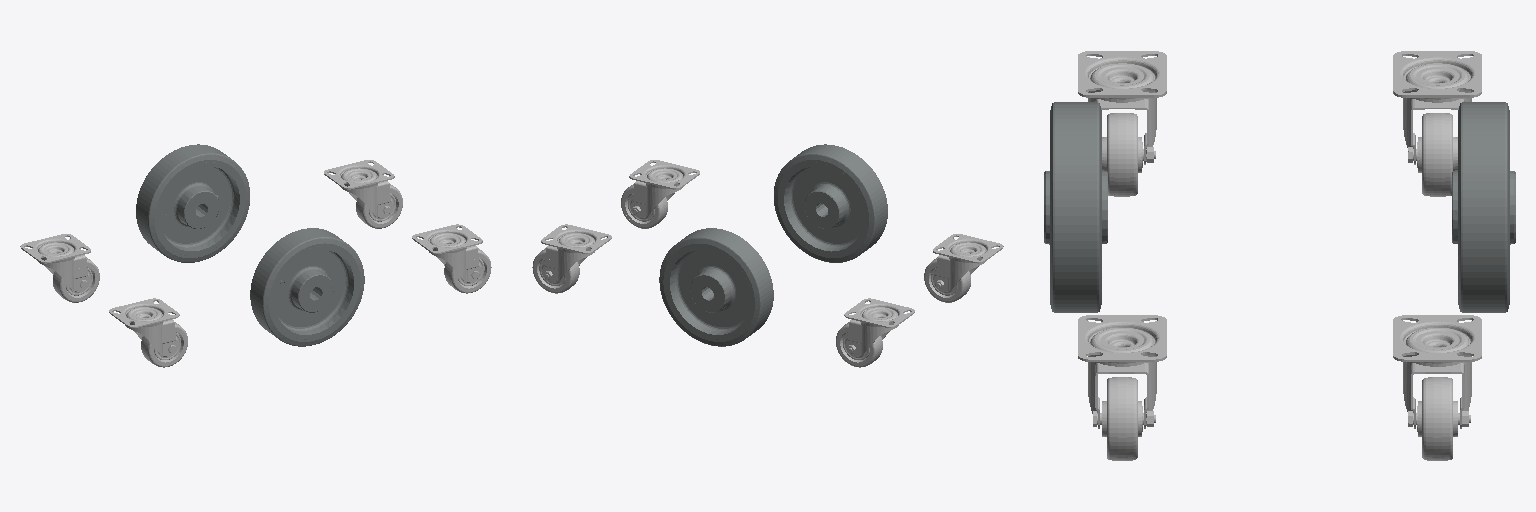
robot.urdf — amrmtt_robot:
<?xml version="1.0" ?>
<robot name="amrmtt_robot">

  <link name="base_link">
    <inertial>
      <origin 
        rpy="0 0 0" 
        xyz="0.034512 0.2433 -0.014732"/>
      <mass value="52.884"/>
      <inertia 
        ixx="0.31942" 
        ixy="0.00054994" 
        ixz="-0.0020306" 
        iyy="0.71823" 
        iyz="0.00095034" 
        izz="0.54119"/>
      </inertial>
    <visual>
       <origin rpy="1.5707 0 3.1414" xyz="0 0 0"/>
      
      <geometry>
        <mesh filename="package://amrmtt_robot/meshes/Chassis_link.STL"/>
      </geometry>
      <material name="">
        <color rgba="0.89804 0.91765 0.92941 1"/>
      </material>
    </visual>
    <collision>
      <origin rpy="0 0 0" xyz="0 0 0"/>
      <geometry>
        <mesh filename="package://amrmtt_robot/meshes/Chassis_link.STL"/>
      </geometry>
    </collision>
  </link>

  <link name="Left_Wheel_Link">
    <inertial>
      <origin rpy="0 0 0" xyz="-4.7744E-05 -1.1722E-06 -0.0039873"/>
      <mass value="7.4872"/>
      <inertia 
        ixx="0.023075" 
        ixy="-4.1552E-07" 
        ixz="-3.6593E-06" 
        iyy="0.023091" 
        iyz="-9.4815E-08" 
        izz="0.043271"/>
    </inertial>
    <visual>
      <origin rpy="0 0 0" xyz="0 0 0"/>
      <geometry>
        <mesh filename="package://amrmtt_robot/meshes/Left_Wheel_Link.STL"/>
      </geometry>
      <material name="">
        <color rgba="0.52941 0.54902 0.54902 1"/>
      </material>
    </visual>
    <collision>
      <origin rpy="0 0 0" xyz="0 0 0"/>
      <geometry>
        <mesh filename="package://amrmtt_robot/meshes/Left_Wheel_Link.STL"/>
      </geometry>
    </collision>
  </link>

  <joint name="Left_wheel_center_Point"
    type="continuous">
    <origin
      xyz="9.6581E-05 0.19 0.075"
      rpy="1.5708 0 0" />
    <parent
      link="base_link" />
    <child
      link="Left_Wheel_Link" />
    <axis
      xyz="0 0 -1" />
    <dynamics
      damping="0.1"
      friction="0.1" />
  </joint>

  <link name="Right_Wheel_Link">
    <inertial>
      <origin rpy="0 0 0" xyz="4.5224E-05 -1.848E-05 0.0040127"/>
      <mass value="7.4872"/>
      <inertia ixx="0.023077" ixy="5.6217E-06" ixz="-3.3885E-06" iyy="0.023088" iyz="1.3847E-06" izz="0.043271"/>
    </inertial>
    <visual>
      <origin rpy="0 0 0" xyz="0 0 0"/>
      <geometry>
        <mesh filename="package://amrmtt_robot/meshes/Right_Wheel_Link.STL"/>
      </geometry>
      <material name="">
        <color rgba="0.52941 0.54902 0.54902 1"/>
      </material>
    </visual>
    <collision>
      <origin rpy="0 0 0" xyz="0 0 0"/>
      <geometry>
        <mesh filename="package://amrmtt_robot/meshes/Right_Wheel_Link.STL"/>
      </geometry>
    </collision>
  </link>

  <joint name="Right_wheel_center_Point"
    type="continuous">
    <origin
      xyz="9.6581E-05 -0.19 0.075"
      rpy="1.5708 0 0" />
            <!-- xyz="9.6581E-05 0.19 0.075"
      rpy="1.5708 0 0" /> -->
    <parent
      link="base_link" />
    <child
      link="Right_Wheel_Link" />
    <axis
      xyz="0 0 -1" />
    <dynamics
      damping="0.1"
      friction="0.1" />
  </joint>

  <link name="L_B_Caster_W_Link">
    <inertial>
      <origin rpy="0 0 0" xyz="0.0373 -0.044583 -9.6163E-05"/>
      <mass value="1.0016"/>
      <inertia ixx="0.00047167" ixy="5.3397E-06" ixz="-1.7075E-08" iyy="0.0004975" iyz="7.2771E-08" izz="0.00076381"/>
    </inertial>
    <visual>
      <origin rpy="0 0 0" xyz="0 0 0"/>
      <geometry>
        <mesh filename="package://amrmtt_robot/meshes/L_B_Caster_W_Link.STL"/>
      </geometry>
      <material name="">
        <color rgba="0.75294 0.75294 0.75294 1"/>
      </material>
    </visual>
    <collision>
      <origin rpy="0 0 0" xyz="0 0 0"/>
      <geometry>
        <mesh filename="package://amrmtt_robot/meshes/L_B_Caster_W_Link.STL"/>
      </geometry>
    </collision>
  </link>

  <joint name="L_B_Caster_W_Center_Ponit"
    type="fixed">
    <origin
      xyz="0.3 -0.15 0.06"
      rpy="1.5708 0 0" />
            <!-- xyz="0.3 0.15 0.06"
      rpy="1.5708 0 0" /> -->
    <parent
      link="base_link" />
    <child
      link="L_B_Caster_W_Link" />
    <axis
      xyz="0 0 0" />
    <!-- <dynamics
      damping="0.1"
      friction="0.1" /> -->
  </joint>

  <link name="L_F_Caster_W_link">
    <inertial>
      <origin rpy="0 0 0" xyz="0.0372999512874298 -0.0445834915476717 -9.61633773850501E-05"/>
      <mass value="1.00160815383293"/>
      <inertia ixx="0.000471671395328203" ixy="5.33970093952103E-06" ixz="-1.70749025931039E-08" iyy="0.000497502515737664" iyz="7.27706825064735E-08" izz="0.000763807744833162"/>
    </inertial>
    <visual>
      <origin rpy="0 0 0" xyz="0 0 0"/>
      <geometry>
        <mesh filename="package://amrmtt_robot/meshes/L_F_Caster_W_link.STL"/>
      </geometry>
      <material name="">
        <color rgba="0.75294 0.75294 0.75294 1"/>
      </material>
    </visual>
    <collision>
      <origin rpy="0 0 0" xyz="0 0 0"/>
      <geometry>
        <mesh filename="package://amrmtt_robot/meshes/L_F_Caster_W_link.STL"/>
      </geometry>
    </collision>
  </link>

  <joint name="L_F_Caster_W_Center_Ponit"
    type="fixed">
    <origin
      xyz="-0.2945 -0.15 0.06"
      rpy="1.5708 0 0" />
      <!-- xyz="-0.2945 0.15 0.06"
      rpy="1.5708 0 0" /> -->
    <parent
      link="base_link" />
    <child
      link="L_F_Caster_W_link" />
    <axis
      xyz="0 0 0" />
    <!-- <dynamics
      damping="0.1"
      friction="0.1" /> -->
  </joint>

  <link name="R_F_Caster_W_link">
    <inertial>
      <origin rpy="0 0 0" xyz="0.0373 -0.044583 -9.6163E-05"/>
      <mass value="1.0016"/>
      <inertia ixx="0.00047167" ixy="5.3397E-06" ixz="-1.7075E-08" iyy="0.0004975" iyz="7.2771E-08" izz="0.00076381"/>
    </inertial>
    <visual>
      <origin rpy="0 0 0" xyz="0 0 0"/>
      <geometry>
        <mesh filename="package://amrmtt_robot/meshes/R_F_Caster_W_link.STL"/>
      </geometry>
      <material name="">
        <color rgba="0.75294 0.75294 0.75294 1"/>
      </material>
    </visual>
    <collision>
      <origin rpy="0 0 0" xyz="0 0 0"/>
      <geometry>
        <mesh filename="package://amrmtt_robot/meshes/R_F_Caster_W_link.STL"/>
      </geometry>
    </collision>
  </link>

  <joint name="R_F_Caster_W_Center_Ponit"
    type="fixed">
    <origin
      xyz="-0.2945 0.15 0.06"
      rpy="1.5708 0 0" />
    <parent
      link="base_link" />
    <child
      link="R_F_Caster_W_link" />
    <axis
      xyz="0 0 0" />
    <!-- <dynamics
      damping="0.1"
      friction="0.1" /> -->
  </joint>

  <link name="R_B_Caster_W_Link">
    <inertial>
      <origin rpy="0 0 0" xyz="0.0373 -0.044583 -9.6163E-05"/>
      <mass value="1.0016"/>
      <inertia ixx="0.00047167" ixy="5.3397E-06" ixz="-1.7075E-08" iyy="0.0004975" iyz="7.2771E-08" izz="0.00076381"/>
    </inertial>
    <visual>
      <origin rpy="0 0 0" xyz="0 0 0"/>
      <geometry>
        <mesh filename="package://amrmtt_robot/meshes/R_B_Caster_W_Link.STL"/>
      </geometry>
      <material name="">
        <color rgba="0.75294 0.75294 0.75294 1"/>
      </material>
    </visual>
    <collision>
      <origin rpy="0 0 0" xyz="0 0 0"/>
      <geometry>
        <mesh filename="package://amrmtt_robot/meshes/R_B_Caster_W_Link.STL"/>
      </geometry>
    </collision>
  </link>

  <joint name="R_B_Caster_W_Center_Ponit"
    type="fixed">
    <origin
      xyz="0.3 0.15 0.06"
      rpy="1.5708 0 0" />
    <parent
      link="base_link" />
    <child
      link="R_B_Caster_W_Link" />
    <axis
      xyz="0 0 0" />
    <!-- <dynamics
      damping="0.1"
      friction="0.1" /> -->
  </joint>

  <!-- ############################################ Center_Wheels ############################################ -->





  <!-- ############################################ Lidar ############################################ -->
  <link name="L_F_Lidar_Link">
    <inertial>
      <origin rpy="0 0 0" xyz="0.0026211 -0.052053 -0.0026217"/>
      <!-- <origin rpy="0 0 3.1416" xyz="0 0 0"/> -->

      <mass value="0.28431"/>
      <inertia ixx="0.00017482" ixy="-9.9427E-06" ixz="-6.4558E-06" iyy="0.00013429" iyz="9.9411E-06" izz="0.00017484"/>
    </inertial>
    <visual>
      <origin rpy="0 0 0" xyz="0 0 0"/>
      <geometry>
        <mesh filename="package://amrmtt_robot/meshes/L_F_Lidar_Link.STL"/>
      </geometry>
      <material name="">
        <color rgba="0.79216 0.81961 0.93333 1"/>
      </material>
    </visual>
    <collision>
      <origin rpy="0 0 0" xyz="0 0 0"/>
      <!-- <origin rpy="0 0 3.1416" xyz="0 0 0"/> -->

      <geometry>
        <mesh filename="package://amrmtt_robot/meshes/L_F_Lidar_Link.STL"/>
      </geometry>
    </collision>
  </link>

  <joint name="L_F_Lidar_Center_Point"
    type="fixed">

    <!-- สูตร คำนวณ เรเดียน = องศา * (3.14/180) -->
    
    <origin
      xyz="-0.3459 -0.195 0.207"
      rpy="1.5708 0 0" />
    <parent
      link="base_link" />
    <child
      link="L_F_Lidar_Link" />
    <axis
      xyz="0 0 0" />
  </joint>
  <!-- ############################################ Lidar ############################################ -->



  <!-- ############################################ Lidar ############################################ -->
  <link name="R_B_Lidar_Link">
    <inertial>
      <origin rpy="0 0 0" xyz="-0.0026219 -0.052053 0.0026209"/>
      <!-- <origin rpy="0 0 3.1416" xyz="0 0 0"/> -->
      <mass value="0.28431"/>
      <inertia ixx="0.00017483" ixy="9.9457E-06" ixz="-6.4558E-06" iyy="0.00013429" iyz="-9.9381E-06" izz="0.00017483"/>
    </inertial>
    <visual>
      <origin rpy="0 0 0" xyz="0 0 0"/>
      <geometry>
        <mesh filename="package://amrmtt_robot/meshes/R_B_Lidar_Link.STL"/>
      </geometry>
      <material name="">
        <color rgba="0.79216 0.81961 0.93333 1"/>
      </material>
    </visual>
    <collision>
      <origin rpy="0 0 0" xyz="0 0 0"/>
       <!-- <origin rpy="0 0 3.1416" xyz="0 0 0"/> -->
      <geometry>
        <mesh filename="package://amrmtt_robot/meshes/R_B_Lidar_Link.STL"/>
      </geometry>
    </collision>
  </link>

  <joint name="R_B_Lidar_Center_Point"
    type="fixed">
    <origin
      xyz="0.348 0.195 0.207"
      rpy="1.5708 0 0" />
    <parent
      link="base_link" />
    <child
      link="R_B_Lidar_Link" />
    <axis
      xyz="0 0 0" />
  </joint>
  <!-- ############################################ Lidar ############################################ -->


<!--

สูตร คำนวณ เรเดียน = องศา * (3.14/180)
  
  | องศา (°)  | เรเดียน (rad) | ใช้บ่อยเมื่อ...                          
| -/*-*-*-+-+-+-+- | ========= | ==================================== 
| 0°        | 0             | ไม่หมุน                                  
| **90°**   | **1.5708**    | หมุนตั้งฉาก (เช่น หันด้านหน้าเป็นด้านบน) 
| **-90°**  | **-1.5708**   | หมุนกลับทางตรงข้าม                       
| **180°**  | **3.1416**    | หมุนกลับหลัง                             
| **-180°** | **-3.1416**   | เหมือนกัน แต่หมุนอีกทิศ                  
| **45°**   | **0.7854**    | หมุนเฉียง                                
| **-45°**  | **-0.7854**   | หมุนเฉียงอีกด้าน                         
| **360°**  | **6.2832**    | หมุนเต็มรอบหนึ่งครั้ง                     
| **-360°** | **-6.2832**   | หมุนเต็มรอบหนึ่งครั้งในทิศทางตรงกันข้าม  
  -->

</robot>

--- Facts derived from the render (not from the file) ---
The picture shows the robot from 3 angles, left to right: view 1: azimuth 30°, elevation 25°; view 2: azimuth 150°, elevation 25°; view 3: azimuth 270°, elevation 25°; orthographic projection.
Model amrmtt_robot with 9 links and 8 joints (2 continuous, 6 fixed), rooted at base_link, posed all joints at 0.
Visible links, largest first — view 1: Right_Wheel_Link, Left_Wheel_Link, L_B_Caster_W_Link, R_B_Caster_W_Link, L_F_Caster_W_link, R_F_Caster_W_link; view 2: Left_Wheel_Link, Right_Wheel_Link, R_B_Caster_W_Link, L_B_Caster_W_Link, L_F_Caster_W_link, R_F_Caster_W_link; view 3: Left_Wheel_Link, Right_Wheel_Link, L_B_Caster_W_Link, R_B_Caster_W_Link, L_F_Caster_W_link, R_F_Caster_W_link.
Link boxes in pixels (bbox=[...]): Right_Wheel_Link: bbox=[250, 228, 364, 346]; Left_Wheel_Link: bbox=[136, 144, 249, 262]; L_B_Caster_W_Link: bbox=[412, 224, 491, 293]; R_B_Caster_W_Link: bbox=[324, 160, 402, 228]; L_F_Caster_W_link: bbox=[109, 298, 187, 367]; R_F_Caster_W_link: bbox=[20, 234, 99, 302]; Left_Wheel_Link: bbox=[659, 228, 773, 346]; Right_Wheel_Link: bbox=[774, 144, 887, 262]; R_B_Caster_W_Link: bbox=[532, 224, 611, 293]; L_B_Caster_W_Link: bbox=[621, 160, 699, 228]; L_F_Caster_W_link: bbox=[924, 234, 1003, 302]; R_F_Caster_W_link: bbox=[836, 298, 914, 367]; Left_Wheel_Link: bbox=[1452, 102, 1515, 312]; Right_Wheel_Link: bbox=[1044, 102, 1107, 312]; L_B_Caster_W_Link: bbox=[1078, 315, 1166, 460]; R_B_Caster_W_Link: bbox=[1393, 315, 1481, 460]; L_F_Caster_W_link: bbox=[1078, 51, 1166, 196]; R_F_Caster_W_link: bbox=[1393, 51, 1481, 196].
Bounding box of the posed robot: 0.7244 × 0.448 × 0.2034 m (x, y, z).
Meshes: 9 distinct files referenced, 6 mesh visuals loaded (6 binary STL); not drawn: 3 (reference not matched to a file when rendering).